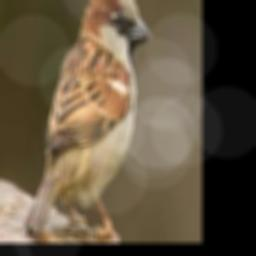Sparrow: (23, 0, 152, 239)
